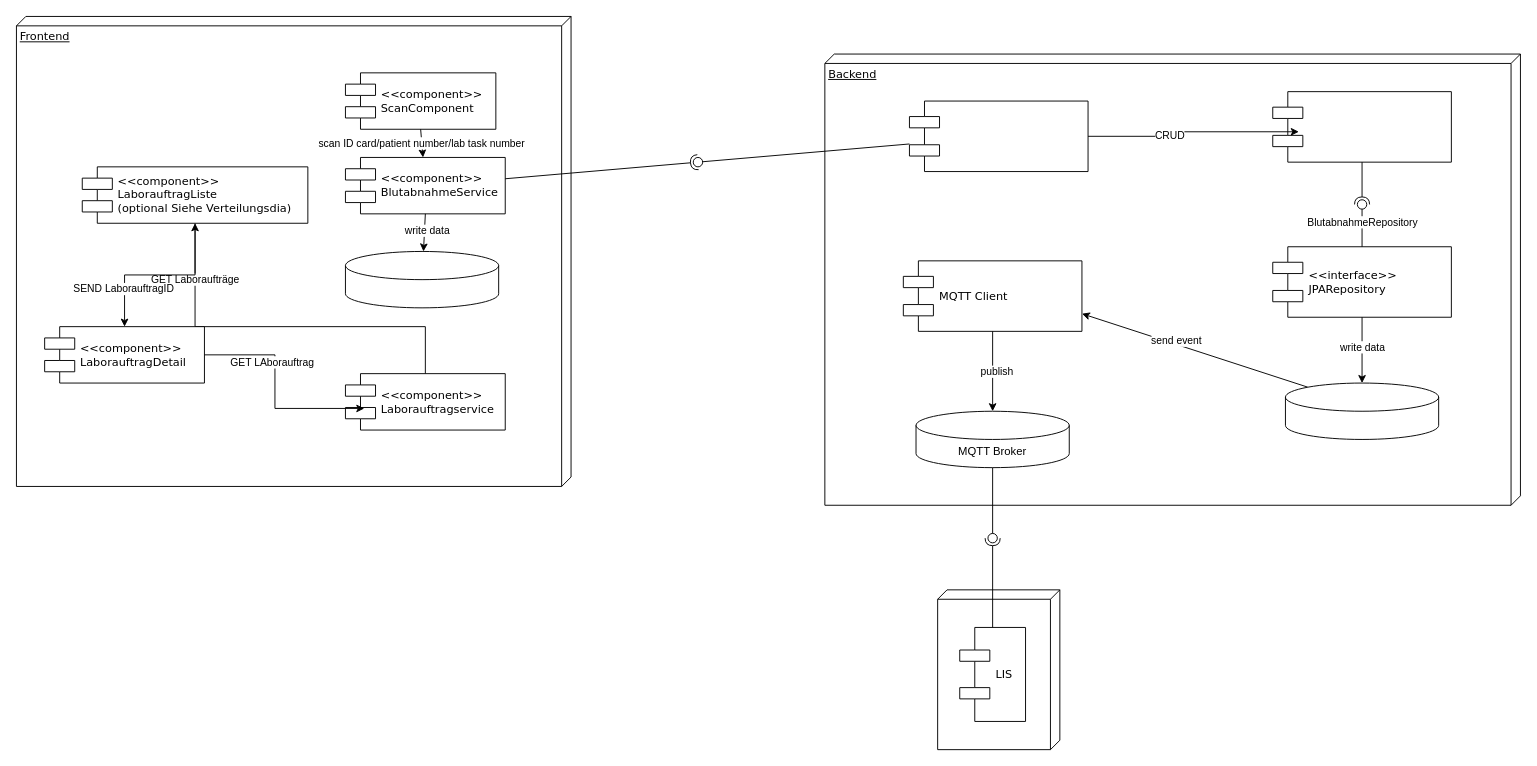
Some shapes in this 1537 by 766 pixel diagram are drawn without their labels. The shapes that lost their labels are listed below. From the top down, each one's box as (x1, y1, x2, y2) in pixels, then its label:
(909, 100, 1088, 172): BlutabnahmeController
(1272, 91, 1451, 162): BlutabnahmeService
(345, 251, 499, 308): BlutabnahmeObjekt
(1285, 382, 1439, 439): Blutabnahme
(937, 589, 1060, 750): LabBackend
